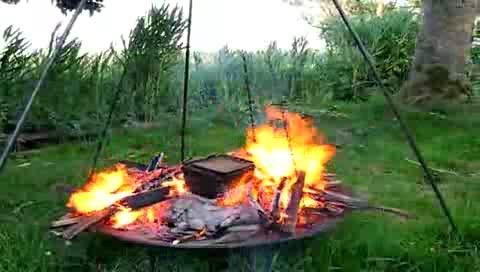fire: (242, 112, 330, 204), (73, 164, 152, 226)
